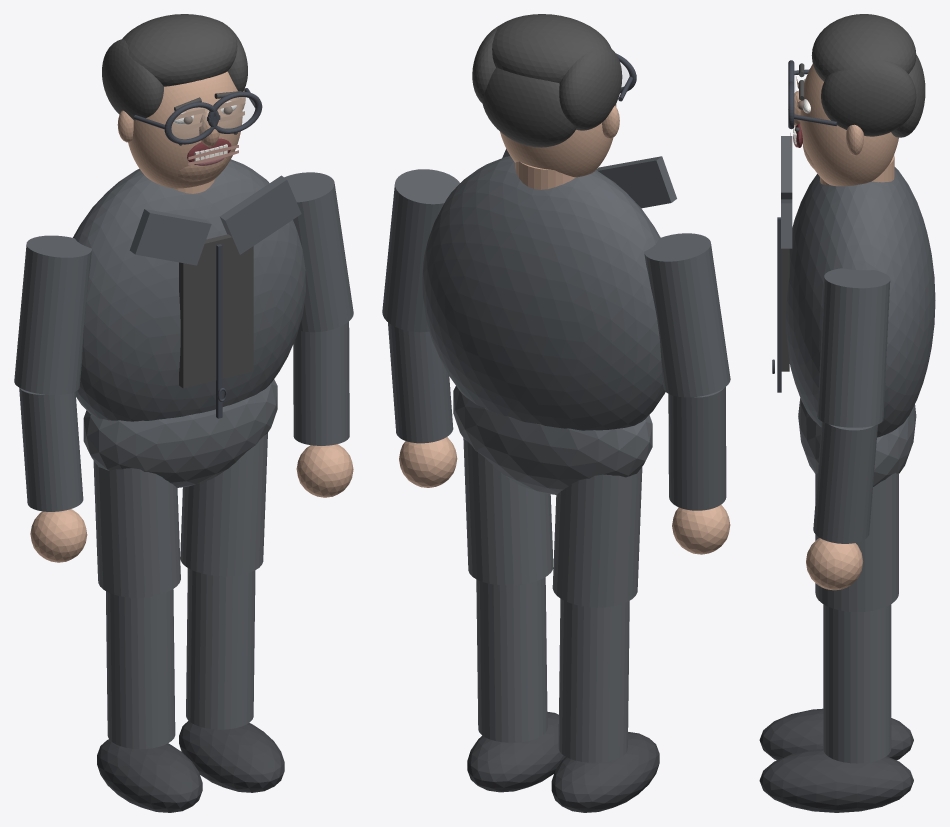
File: nazmul_lipsync_ready.glb
3 renders of one model, left to right at view 1: azimuth 30°, elevation 25°; view 2: azimuth 150°, elevation 25°; view 3: azimuth 270°, elevation 25°, orthographic. The views are drawn at different scales.
Parts seen in each view (by area): view 1: Jacket_Body, Pelvis, LowerLeg_L, LowerLeg_R, UpperLeg_R, UpperArm_R, Shirt_Center, UpperLeg_L, UpperArm_L, ForeArm_R, ForeArm_L, Hair_Top (+15 smaller); view 2: Jacket_Body, LowerLeg_L, LowerLeg_R, UpperLeg_R, Pelvis, UpperArm_R, UpperLeg_L, UpperArm_L, ForeArm_R, ForeArm_L, Hair_Top, Shoe_R (+9 smaller); view 3: Jacket_Body, LowerLeg_L, UpperArm_L, Shoe_L, ForeArm_L, Hair_Left, UpperLeg_L, Head, Hair_Top, Shoe_R, Pelvis, Hand_L (+6 smaller).
Part boxes in pixels (x1,y1,x2,y2): Jacket_Body: (73, 159, 305, 421); Pelvis: (83, 379, 277, 487); LowerLeg_L: (186, 568, 255, 729); LowerLeg_R: (106, 589, 175, 749); UpperLeg_R: (93, 461, 180, 597); UpperArm_R: (14, 235, 91, 395); Shirt_Center: (179, 234, 253, 388); UpperLeg_L: (180, 433, 267, 576); UpperArm_L: (284, 172, 353, 332); ForeArm_R: (19, 388, 83, 511); ForeArm_L: (293, 322, 349, 445); Hair_Top: (122, 14, 237, 86); Jacket_Body: (422, 156, 665, 430); LowerLeg_L: (476, 577, 547, 742); LowerLeg_R: (558, 598, 629, 762); UpperLeg_R: (552, 467, 642, 607); Pelvis: (453, 386, 652, 494); UpperArm_R: (644, 233, 730, 397); UpperLeg_L: (463, 438, 553, 585); UpperArm_L: (382, 169, 459, 332); ForeArm_R: (668, 387, 726, 510); ForeArm_L: (388, 322, 453, 443); Hair_Top: (492, 14, 610, 83); Shoe_R: (551, 732, 659, 812); Jacket_Body: (786, 167, 935, 437); LowerLeg_L: (823, 604, 891, 763); UpperArm_L: (817, 268, 890, 427); Shoe_L: (759, 749, 913, 812); ForeArm_L: (813, 421, 877, 543); Hair_Left: (821, 60, 916, 136); UpperLeg_L: (815, 472, 898, 612); Head: (800, 64, 898, 186); Hair_Top: (811, 14, 916, 81); Shoe_R: (759, 708, 913, 760); Pelvis: (798, 398, 916, 486); Hand_L: (806, 538, 862, 590).
Bounding box in the file's own units: 0.8446 × 1.85 × 0.387.
